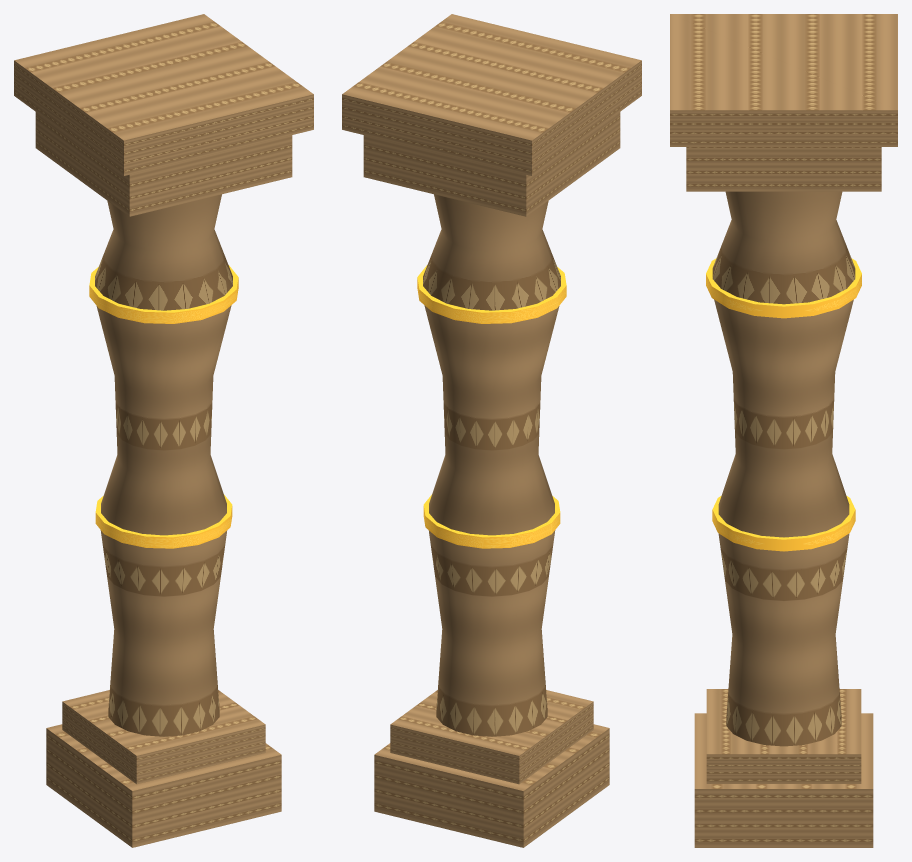
The model's file is temple_column.glb.
3 renders of one model, left to right at view 1: azimuth 30°, elevation 25°; view 2: azimuth 150°, elevation 25°; view 3: azimuth 270°, elevation 25°, orthographic. The views are drawn at different scales.
Parts seen in each view (by area): view 1: Node_TempleColumn; view 2: Node_TempleColumn; view 3: Node_TempleColumn.
Part boxes in pixels (x1,y1,x2,y2): Node_TempleColumn: [14, 14, 313, 847]; Node_TempleColumn: [342, 14, 641, 847]; Node_TempleColumn: [670, 14, 897, 847].
Bounding box in the file's own units: 1.4 × 5.07 × 1.4.
2 materials, 2 textured.
